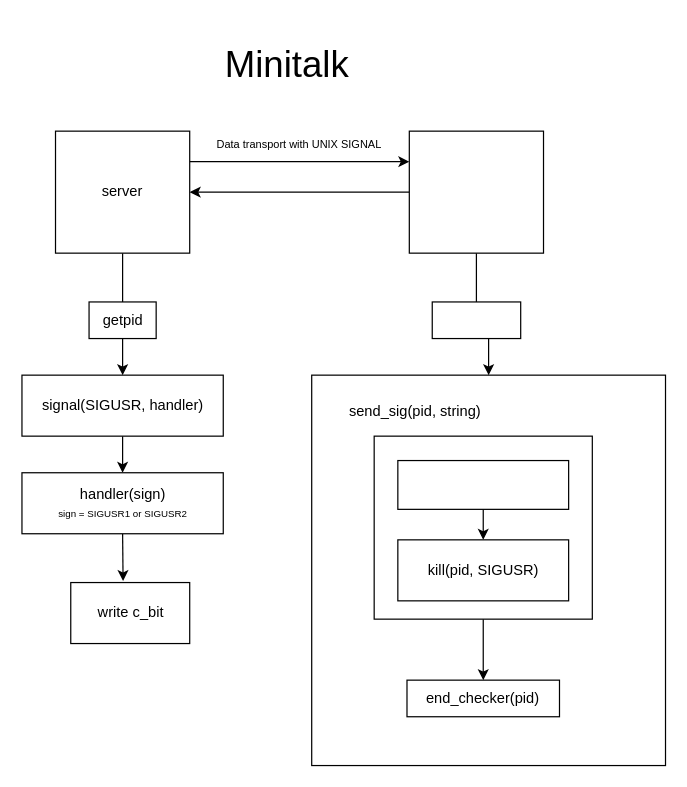
This 687x787 diagram has some shape labels left out. The centre of each missing label's shape, as x and y in pixels:
"argv check" belongs at point 476,320.
"char_to_bit(char c)" belongs at point 483,484.
"client" belongs at point 476,191.
